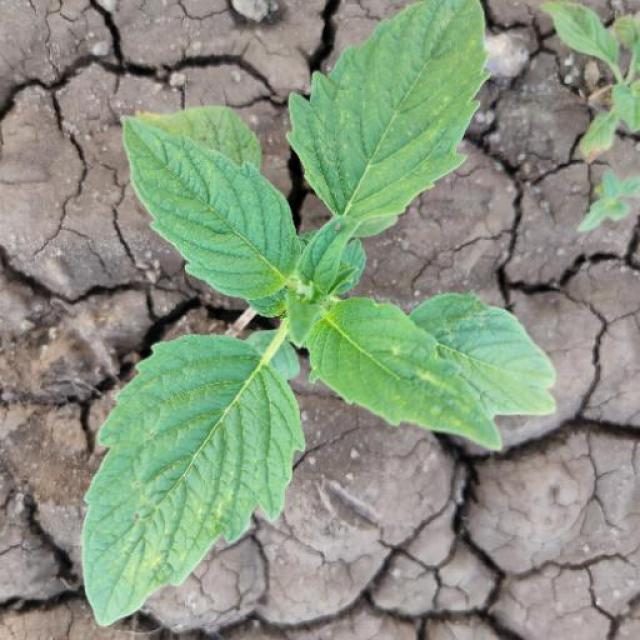crop: (20, 25, 568, 594)
